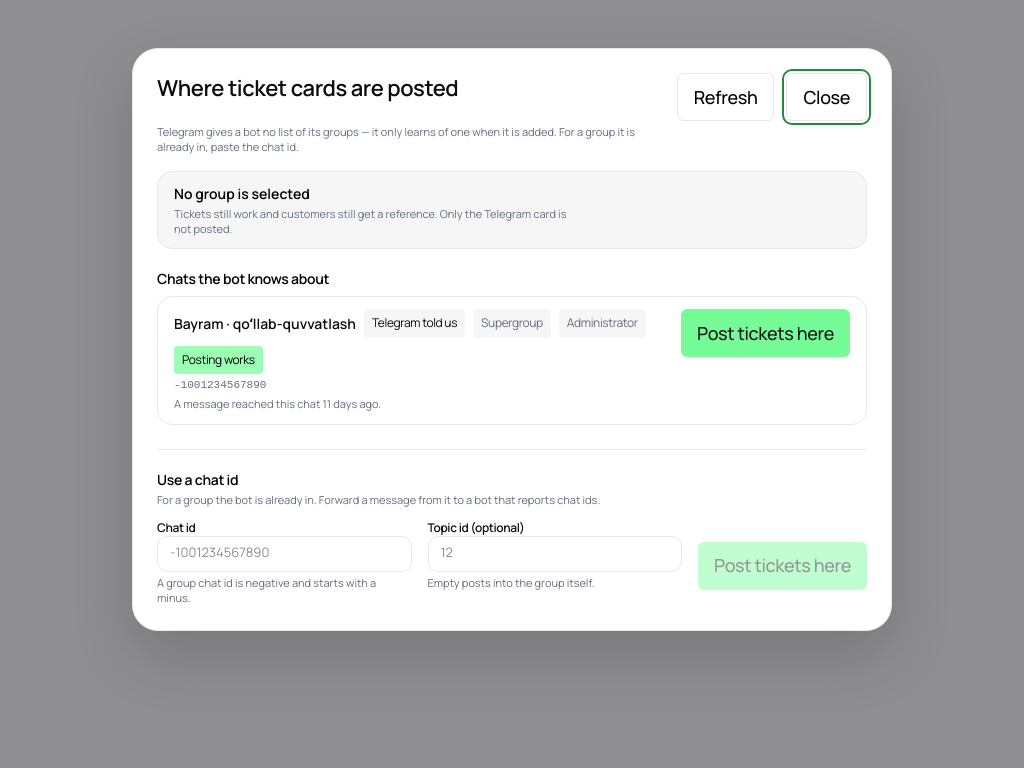
Test: SupportGroupDialog — the paste field refuses a person › names the mistake and sends nothing when the id has no minus
The image size is (1024, 768).
Type "48219" into the field labelled "Chat id" at (284, 554), box [157, 536, 412, 572]
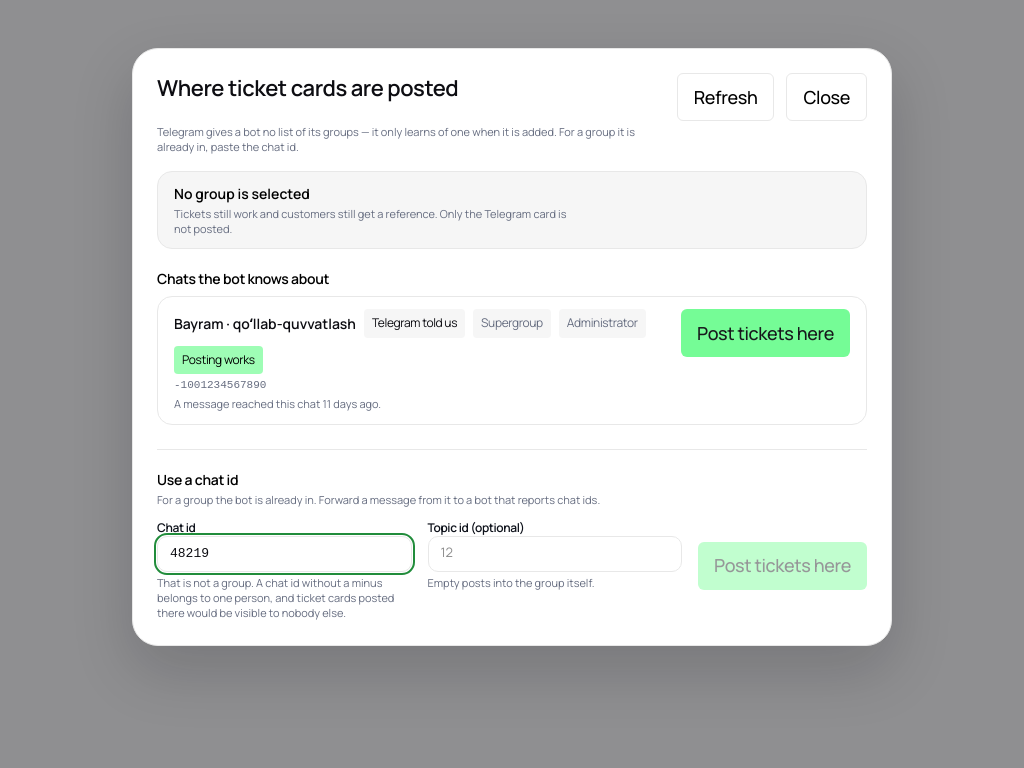
Expected: the button "Post tickets here" next to "Empty posts into the group itself." is disabled, [698, 542, 867, 590]
Expected: the text "That is not a group" is shown, [157, 575, 394, 620]
